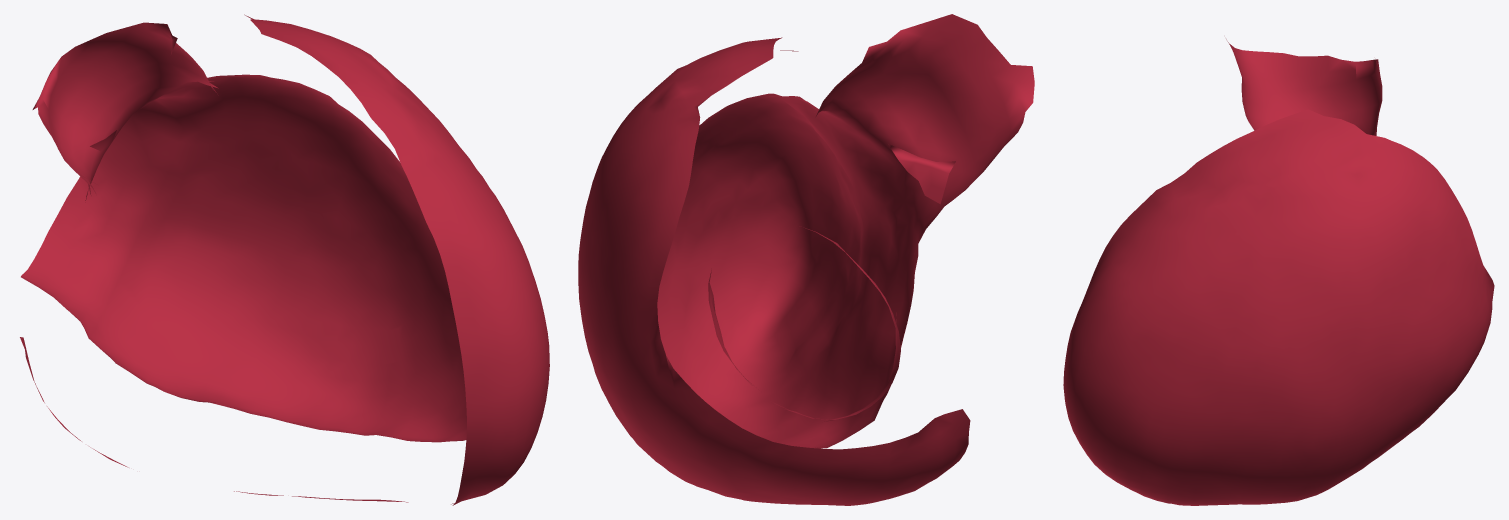
File: left-ventricle.glb
The picture shows the model from 3 angles, left to right: view 1: azimuth 30°, elevation 25°; view 2: azimuth 150°, elevation 25°; view 3: azimuth 270°, elevation 25°; orthographic projection. The views are drawn at different scales.
Parts seen in each view (by area): view 1: Left ventricle; view 2: Left ventricle; view 3: Left ventricle.
Boxes of the visible parts, x1=… form: Left ventricle: x1=20, y1=14, x2=549, y2=505; Left ventricle: x1=578, y1=14, x2=1034, y2=505; Left ventricle: x1=1063, y1=39, x2=1494, y2=505.
Bounding box in the file's own units: 0.08 × 0.0901 × 0.0876.
